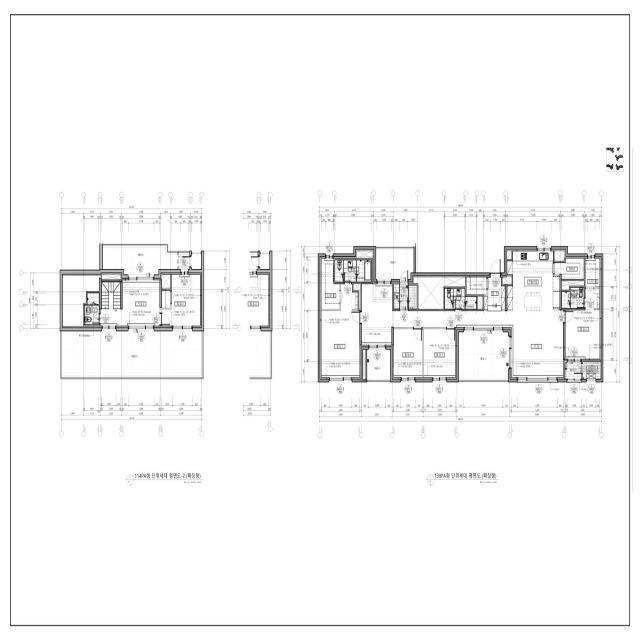space_balconi: (459, 332, 508, 379), (376, 249, 414, 279), (367, 350, 390, 379), (394, 284, 417, 309), (565, 363, 581, 379)
space_bedroom: (321, 284, 360, 377), (565, 288, 600, 359), (162, 275, 201, 326), (424, 329, 455, 377), (394, 329, 422, 377)
space_dressroom: (321, 258, 340, 309), (585, 258, 600, 287)
space_front: (484, 278, 505, 311)
space_kitchen: (507, 251, 560, 309)
space_living_room: (362, 284, 563, 377), (100, 280, 160, 326)
space_other: (61, 331, 201, 376), (103, 247, 189, 274), (63, 275, 99, 327), (414, 277, 465, 309), (555, 258, 584, 279), (101, 282, 121, 309), (466, 277, 487, 295), (562, 281, 584, 290), (353, 284, 360, 309), (162, 291, 171, 308), (191, 254, 201, 269), (101, 273, 122, 280), (162, 273, 170, 289), (357, 251, 373, 258), (555, 251, 565, 261), (363, 350, 366, 380), (502, 276, 512, 284), (478, 296, 483, 309), (507, 251, 512, 259)
space_outdoor_room: (583, 362, 601, 379)
space_toilet: (335, 260, 371, 282), (445, 289, 476, 309), (562, 288, 584, 308), (85, 293, 99, 324)
